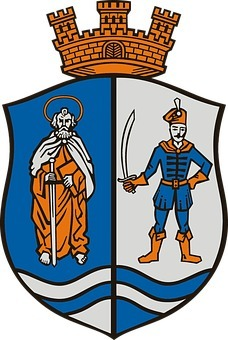person: (121, 98, 207, 267), (29, 103, 99, 269)
